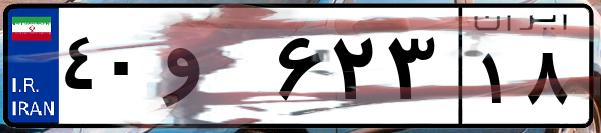0: (110, 28, 158, 98)
1: (475, 38, 525, 113)
2: (330, 28, 385, 110)
3: (385, 28, 445, 110)
4: (57, 26, 110, 100)
6: (270, 28, 330, 110)
8: (525, 38, 570, 115)
و: (158, 20, 270, 120)
